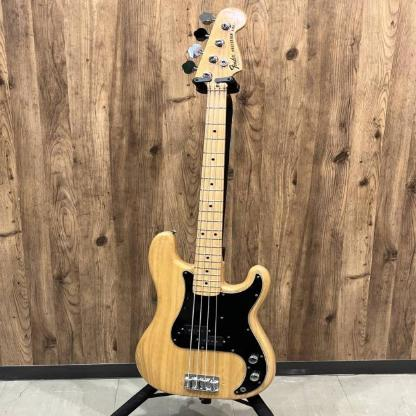bass: (135, 6, 277, 400)
